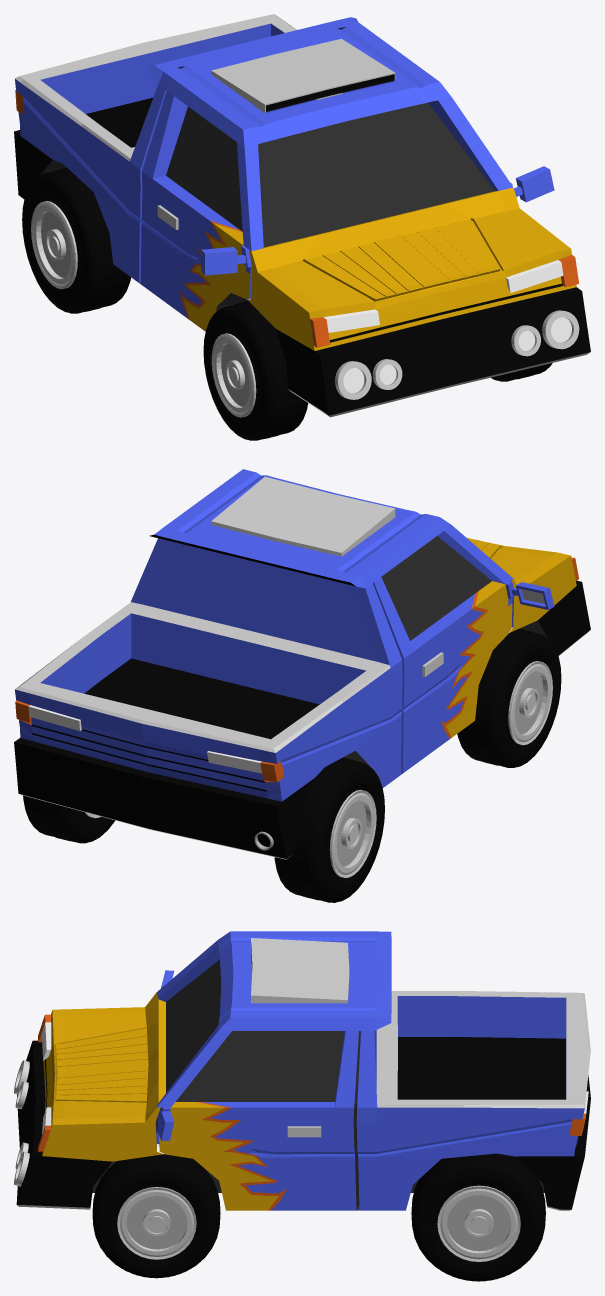
Rendered from CR-CAR-12B.fbx.
The picture shows the model from 3 angles, top to bottom: view 1: azimuth 30°, elevation 25°; view 2: azimuth 150°, elevation 25°; view 3: azimuth 270°, elevation 25°; orthographic projection. The views are drawn at different scales.
Visible parts, largest first — view 1: BODY, WHEEL.004, WHEEL.001; view 2: BODY, WHEEL.004, WHEEL.001, WHEEL.002; view 3: BODY, WHEEL.002, WHEEL.003.
Boxes of the visible parts, bbox=[...] form: BODY: bbox=[14, 14, 590, 417]; WHEEL.004: bbox=[22, 167, 130, 313]; WHEEL.001: bbox=[203, 301, 308, 440]; BODY: bbox=[14, 469, 590, 859]; WHEEL.004: bbox=[274, 757, 384, 902]; WHEEL.001: bbox=[457, 628, 561, 767]; WHEEL.002: bbox=[23, 795, 115, 843]; BODY: bbox=[14, 931, 590, 1210]; WHEEL.002: bbox=[411, 1153, 545, 1281]; WHEEL.003: bbox=[92, 1154, 220, 1278].
Bounding box in the file's own units: 131 × 100 × 207.
